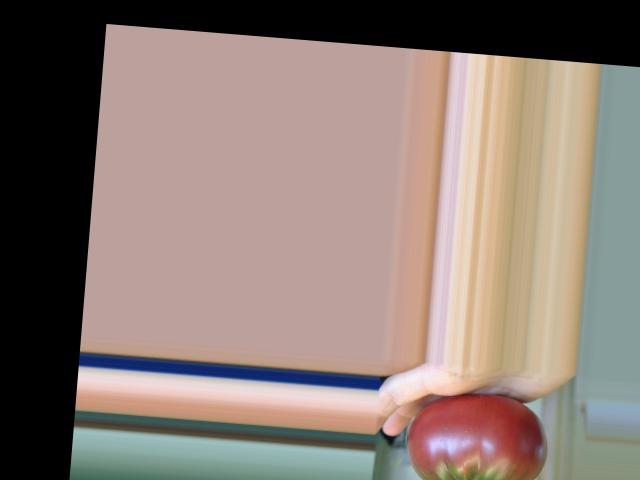tomato: (403, 387, 551, 480)
